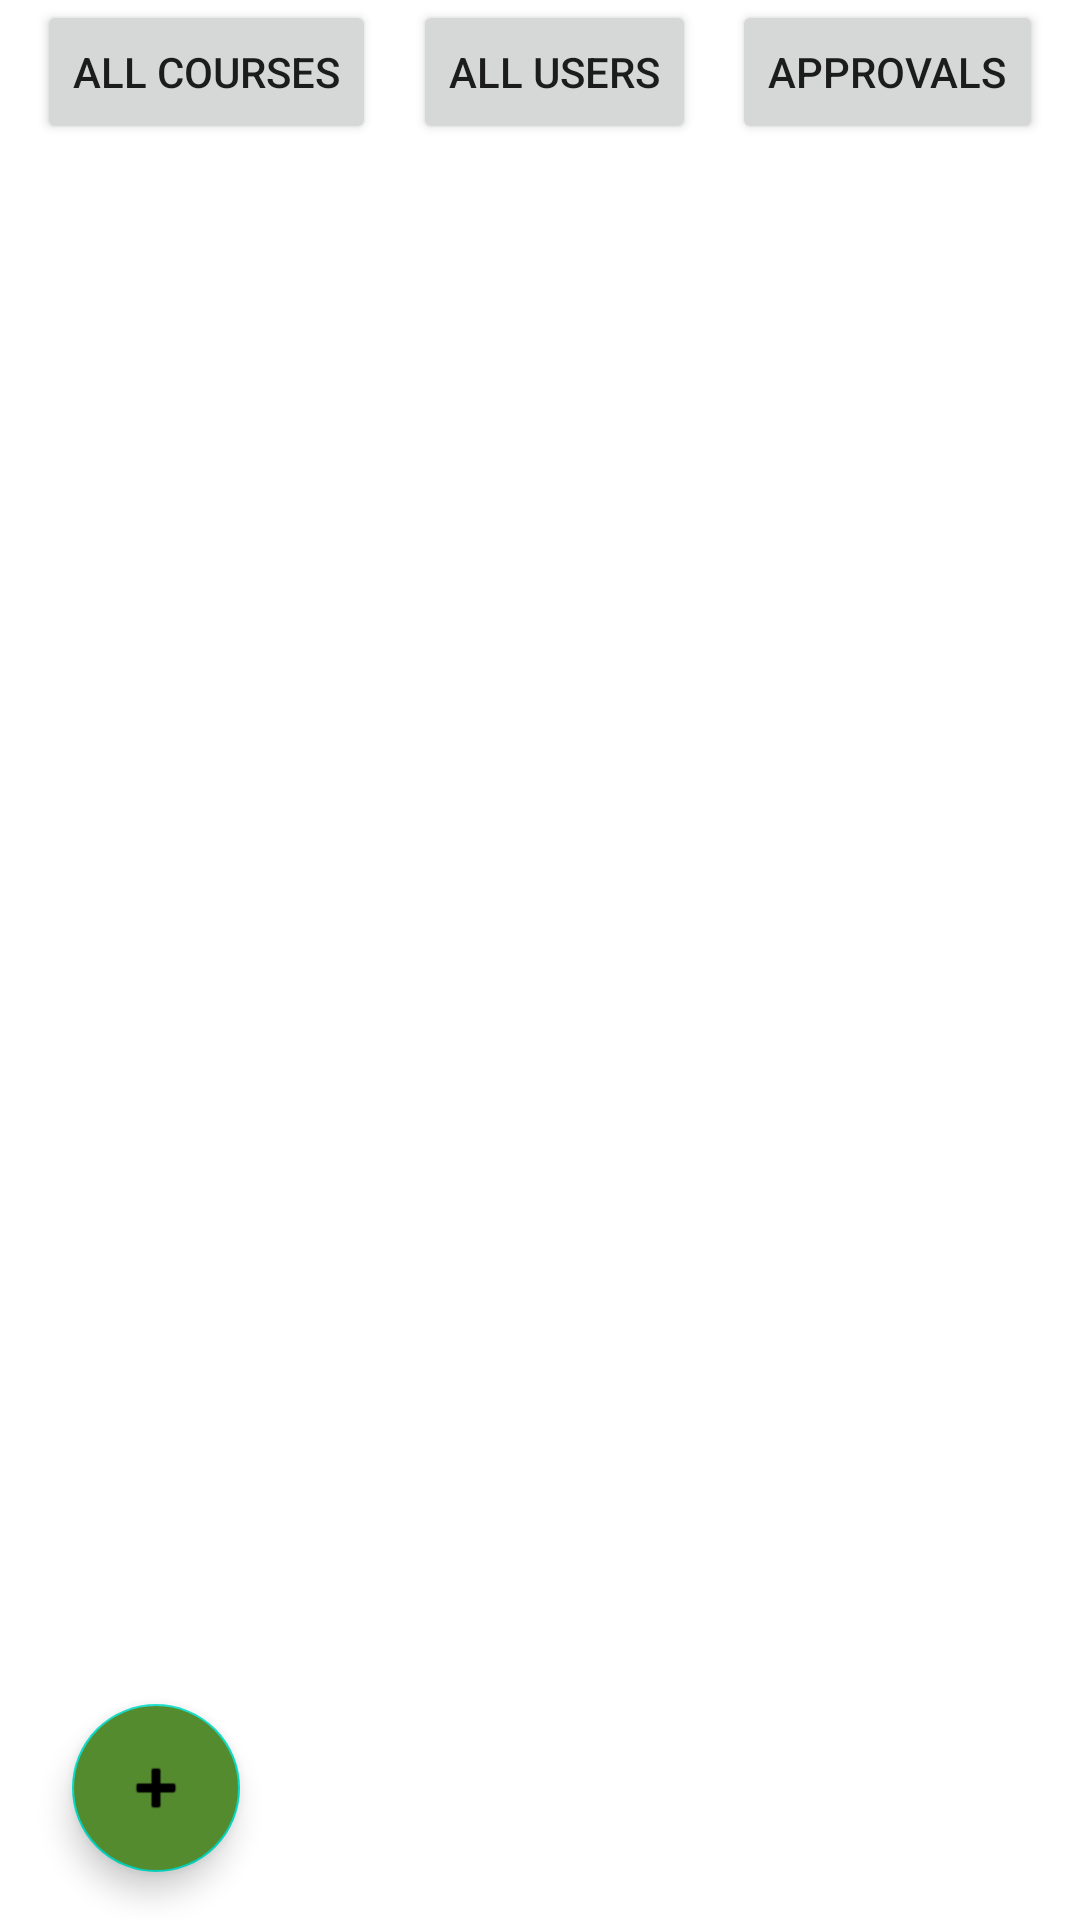

Screen size 1080x1920. Icon name, then its box in pixels as (x1,y1,x2,y2):
add: (72,1704,240,1872)
